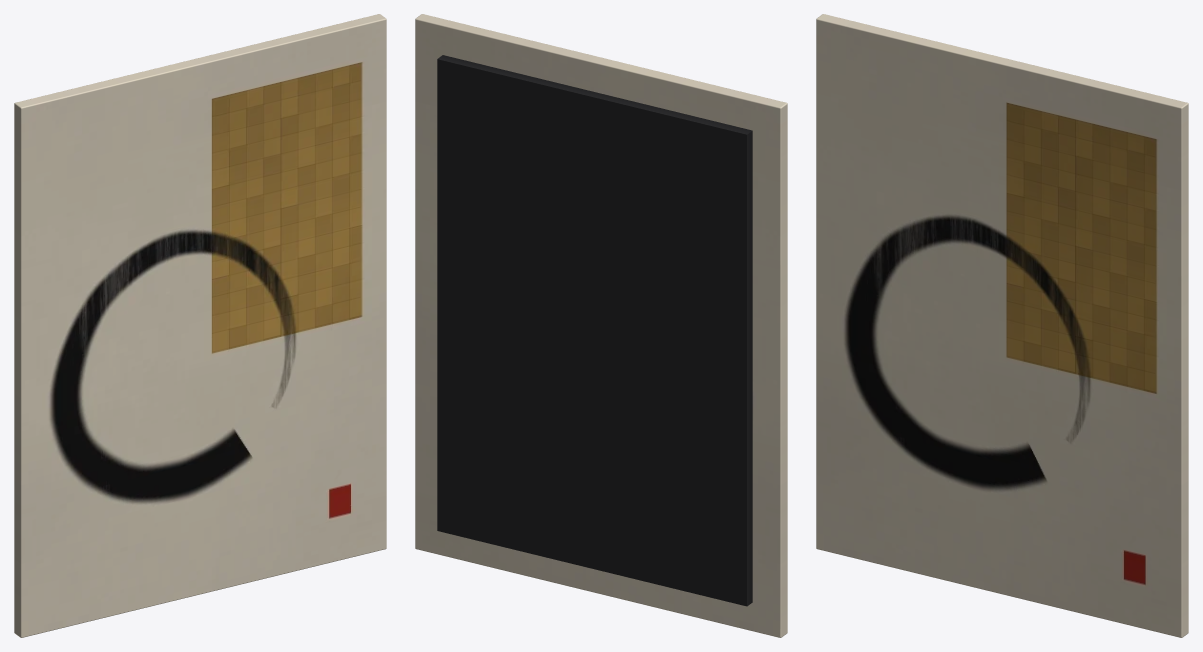
The model's file is entry_artwork_ink.gltf.
The picture shows the model from 3 angles, left to right: view 1: azimuth 30°, elevation 25°; view 2: azimuth 150°, elevation 25°; view 3: azimuth 330°, elevation 25°; orthographic projection.
Parts seen in each view (by area): view 1: EntryArtworkInk_Canvas; view 2: EntryArtworkInk_Backer, EntryArtworkInk_Canvas; view 3: EntryArtworkInk_Canvas.
Boxes of the visible parts, x1,y1,x2,y2 form: EntryArtworkInk_Canvas: (14,14,386,637); EntryArtworkInk_Backer: (437,55,752,606); EntryArtworkInk_Canvas: (415,14,787,637); EntryArtworkInk_Canvas: (816,14,1188,637).
Size of the model in its own units: 1.3 by 1.8 by 0.08.
Materials: 2 (1 with a texture image).
